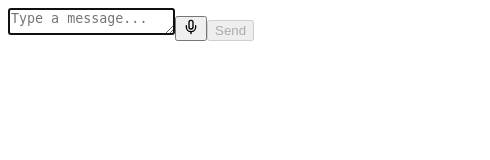
Test: voice input failures are never silent › shows a general error text for other failures
Click the button named "Start voice input": [191, 28] box [175, 16, 207, 41]
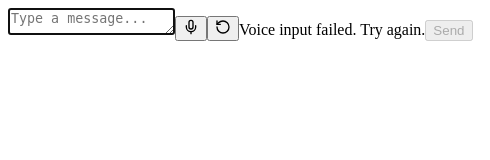
Check: the message reads "Voice input failed. Try again.", box [239, 21, 425, 38]
